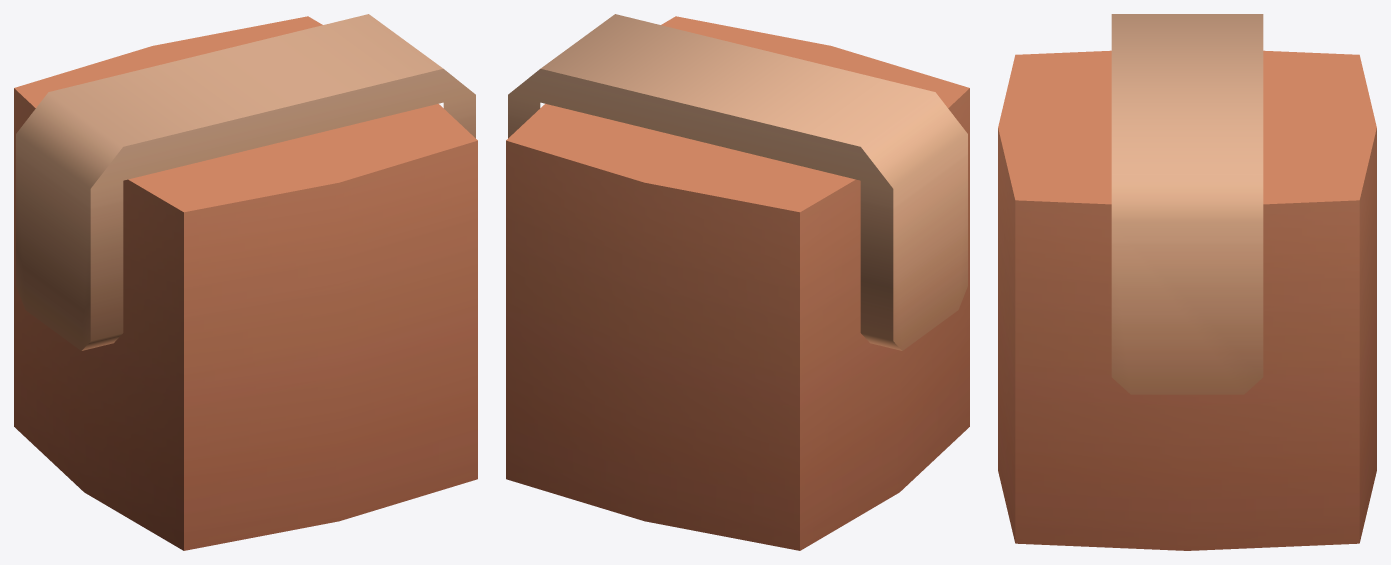
Rendered from kenney-conveyor-box-small.glb.
3 views of the same model, side by side, from view 1: azimuth 30°, elevation 25°; view 2: azimuth 150°, elevation 25°; view 3: azimuth 270°, elevation 25° (orthographic).
Parts seen in each view (by area): view 1: box-small; view 2: box-small; view 3: box-small.
Part boxes in pixels (x1=…): box-small: x1=14, y1=14, x2=477, y2=550; box-small: x1=506, y1=14, x2=969, y2=550; box-small: x1=998, y1=14, x2=1376, y2=550.
Size of the model in its own units: 0.595 by 0.55 by 0.5.
Materials: 1 (1 with a texture image).
